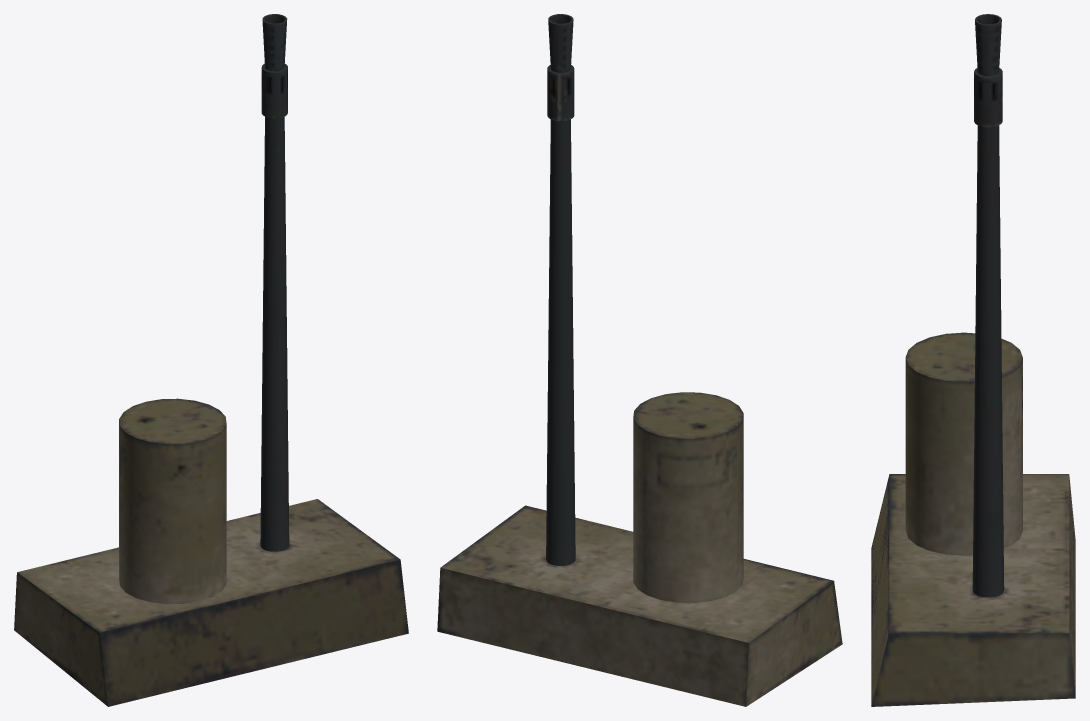
Rendered from Gun_01.glb.
3 renders of one model, left to right at view 1: azimuth 30°, elevation 25°; view 2: azimuth 150°, elevation 25°; view 3: azimuth 270°, elevation 25°, orthographic. The views are drawn at different scales.
Visible parts, largest first — view 1: set_0_group_0; view 2: set_0_group_0; view 3: set_0_group_0.
Boxes of the visible parts, left/top/right/bottom form: set_0_group_0: left=14, top=14, right=408, bottom=706; set_0_group_0: left=437, top=14, right=842, bottom=706; set_0_group_0: left=871, top=14, right=1075, bottom=706.
Size of the model in its own units: 0.6609 by 1.25 by 0.3581.
1 material, 1 textured.
